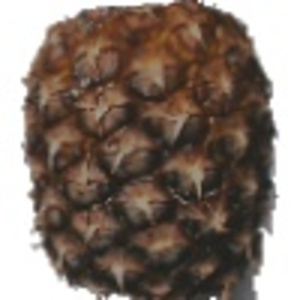abacaxi: (15, 2, 281, 298)
